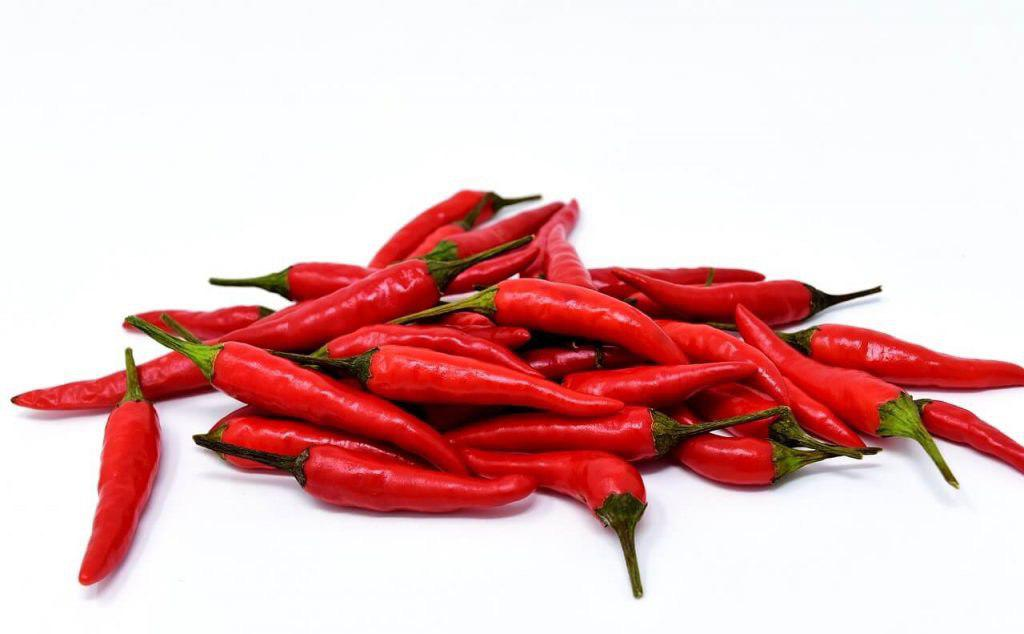lada merah: (11, 254, 439, 418), (192, 328, 454, 469), (733, 304, 899, 462), (790, 304, 1022, 407), (64, 387, 177, 587), (477, 277, 696, 373), (363, 343, 616, 422), (612, 251, 858, 327), (462, 437, 646, 530), (302, 447, 534, 516), (352, 180, 512, 275), (462, 398, 687, 465), (577, 345, 764, 412), (663, 427, 810, 487), (536, 210, 595, 335)
